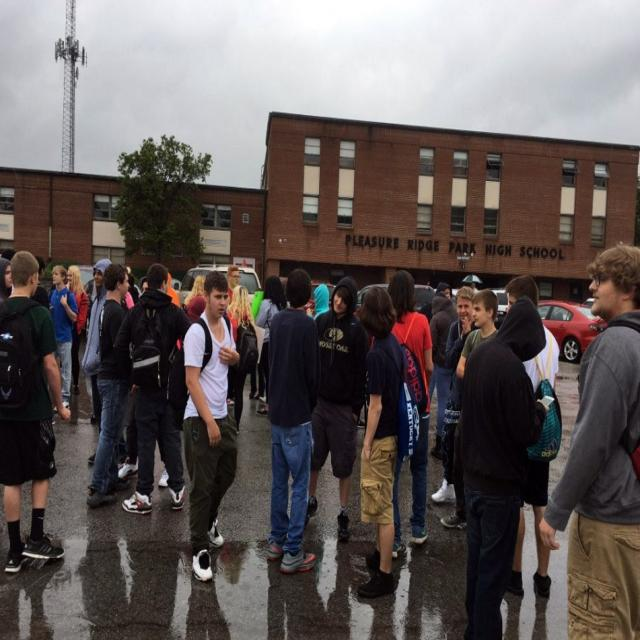body: (536, 241, 640, 639), (456, 292, 556, 639), (170, 267, 242, 582), (0, 249, 66, 576), (113, 261, 194, 516), (294, 273, 369, 541), (502, 271, 561, 598), (263, 266, 324, 575), (356, 282, 407, 598), (438, 288, 501, 532), (385, 269, 435, 562), (113, 275, 181, 490), (84, 261, 133, 510), (430, 284, 479, 503), (79, 257, 114, 467), (426, 292, 460, 458), (47, 264, 80, 413), (255, 274, 288, 416), (226, 284, 256, 434), (64, 263, 90, 397), (250, 285, 270, 401), (417, 281, 454, 327), (28, 254, 51, 311), (183, 274, 207, 322), (306, 282, 331, 321), (226, 264, 242, 306), (0, 254, 13, 301), (166, 270, 180, 308), (127, 276, 140, 308), (83, 276, 96, 303), (280, 273, 289, 310), (357, 290, 368, 320), (357, 409, 368, 432)
